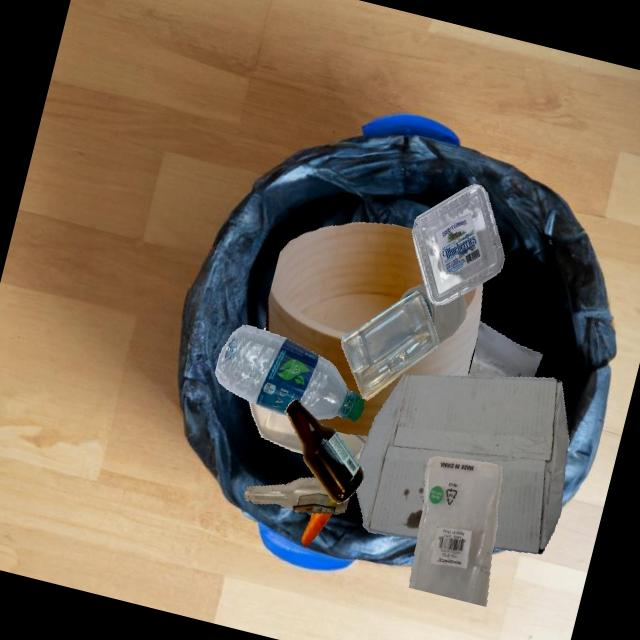biowaste: (300, 512, 332, 547)
cardboard: (355, 374, 568, 554), (352, 434, 367, 460)
combustible waste: (265, 222, 424, 402), (316, 283, 482, 435)
glass: (285, 399, 363, 503), (467, 320, 543, 377), (398, 282, 466, 343), (244, 477, 348, 514)
plastic: (215, 325, 364, 422), (408, 456, 501, 606), (411, 183, 504, 305), (265, 331, 362, 442), (341, 290, 438, 400), (287, 416, 356, 460), (249, 401, 302, 453)
